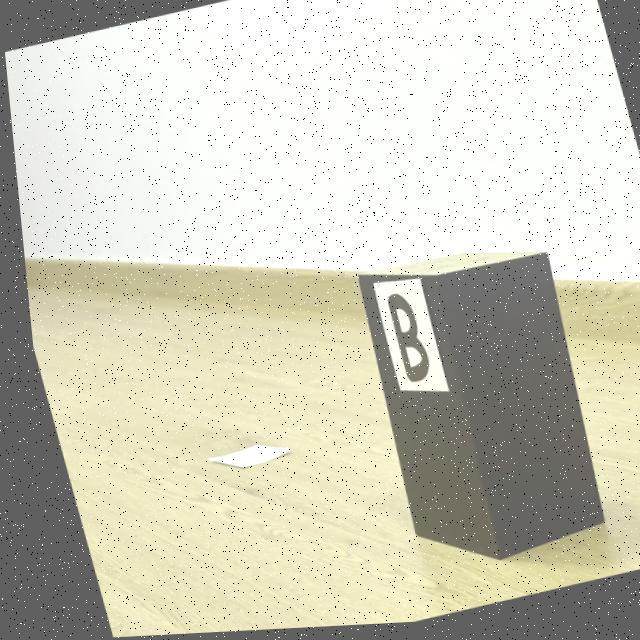B: (381, 297, 421, 386)
